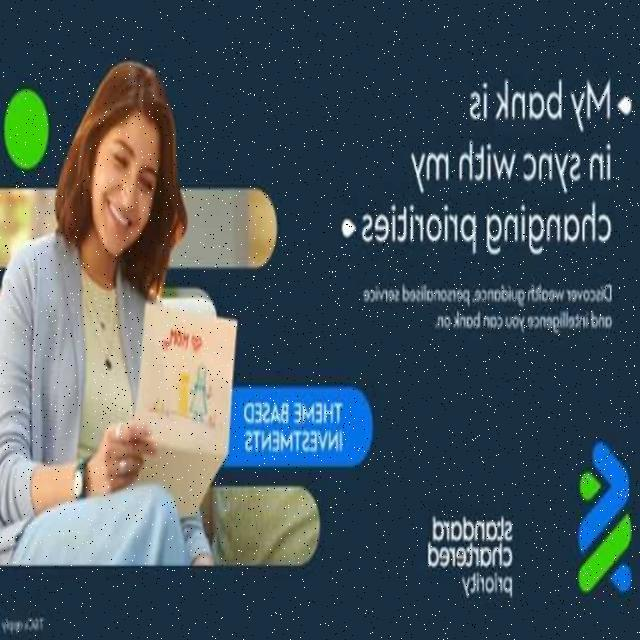Standard Chartered: (578, 443, 634, 595)
